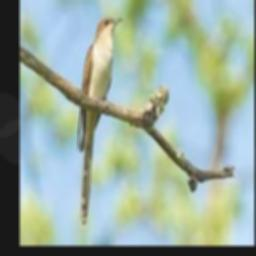Cuckoo: (76, 16, 124, 224)
